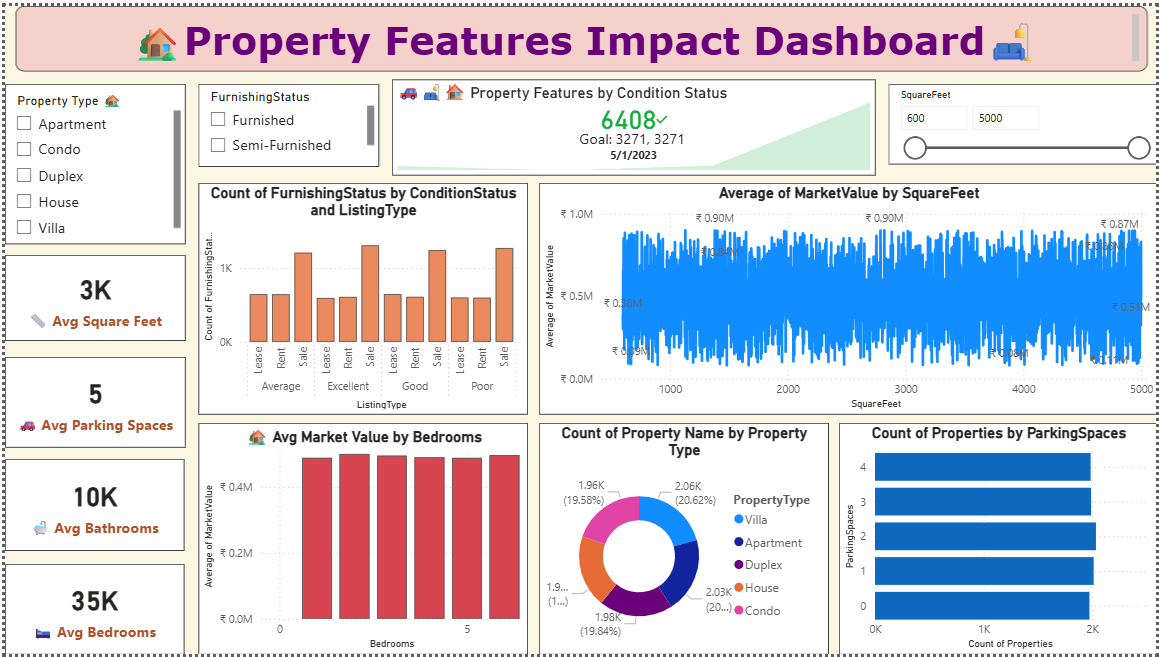

The page's visual inventory and layout, read from the dashboard file:
{"tool":"powerbi","page":{"name":"Property Features Impact","canvas":[1280,720],"ordinal":4},"visuals":[{"type":"textbox","box":[11.3,0,1258.1,72.9],"z":0},{"type":"clusteredBarChart","fields":{"Category":["Properties.ParkingSpaces"],"Y":["Count(Properties)"]},"box":[926.2,463.1,354.6,257.5],"z":1000},{"type":"lineChart","fields":{"Category":["Properties.SquareFeet"],"Y":["Avg(Properties.MarketValue)"]},"box":[592.6,195.9,688.2,257.5],"z":2000},{"type":"card","fields":{"Values":["Sum(Properties.Bedrooms)"]},"box":[0,620.2,199.2,100.4],"z":3000},{"type":"card","fields":{"Values":["CountNonNull(Properties.Bathrooms)"]},"box":[0,503.6,199.2,102],"z":4000},{"type":"card","fields":{"Values":["Avg(Properties.SquareFeet)"]},"box":[0,276.9,200.8,95.5],"z":5000},{"type":"card","fields":{"Values":["Count(Properties.ParkingSpaces)"]},"box":[0,390.2,200.8,100.4],"z":6000},{"type":"clusteredColumnChart","title":"🏡 Avg Market Value by Bedrooms","fields":{"Category":["Properties.Bedrooms"],"Y":["Avg(Properties.MarketValue)"]},"box":[215.4,463.1,365.9,257.5],"z":7000},{"type":"donutChart","title":"Count of Property Name by  Property Type ","fields":{"Category":["Properties.PropertyType","Properties.PropertyName"],"Y":["CountNonNull(Properties.PropertyName)"]},"box":[592.6,463.1,322.2,257.5],"z":8000},{"type":"columnChart","fields":{"Category":["Properties.ConditionStatus","Properties.ListingType"],"Y":["CountNonNull(Properties.FurnishingStatus)"]},"box":[215.4,195.9,365.9,257.5],"z":9000},{"type":"slicer","fields":{"Values":["Properties.PropertyType"]},"box":[0,87.4,200.8,178.1],"z":10000},{"type":"slicer","fields":{"Values":["Properties.SquareFeet"]},"box":[981.3,87.4,299.6,89.1],"z":11000},{"type":"slicer","fields":{"Values":["Properties.FurnishingStatus"]},"box":[215.4,87.4,200.8,92.3],"z":12000},{"type":"kpi","title":"🚗🛋️🏠 Property Features by Condition Status","fields":{"Goal":["CountNonNull(Properties.FurnishingStatus)","CountNonNull(Properties.PropertyType)"],"Indicator":["Sum(Properties.ParkingSpaces)"],"TrendLine":["Properties.SoldDate"]},"box":[430.7,81,537.6,106.9],"z":13000}]}

Visuals, with their boxes in screenshot pixels (x1, y1, x2, y2), scaled from the page's 1280x720 canvas onto the 1159x657 screenshot:
textbox: Rect(10, 0, 1149, 67)
clusteredBarChart - Properties.ParkingSpaces x Count(Properties): Rect(839, 423, 1158, 656)
lineChart - Properties.SquareFeet x Avg(Properties.MarketValue): Rect(537, 179, 1158, 414)
card - Sum(Properties.Bedrooms): Rect(0, 566, 180, 656)
card - CountNonNull(Properties.Bathrooms): Rect(0, 460, 180, 553)
card - Avg(Properties.SquareFeet): Rect(0, 253, 182, 340)
card - Count(Properties.ParkingSpaces): Rect(0, 356, 182, 448)
"🏡 Avg Market Value by Bedrooms" clusteredColumnChart: Rect(195, 423, 526, 656)
"Count of Property Name by  Property Type " donutChart: Rect(537, 423, 828, 656)
columnChart - Properties.ConditionStatus x Properties.ListingType: Rect(195, 179, 526, 414)
slicer - Properties.PropertyType: Rect(0, 80, 182, 242)
slicer - Properties.SquareFeet: Rect(889, 80, 1158, 161)
slicer - Properties.FurnishingStatus: Rect(195, 80, 377, 164)
"🚗🛋️🏠 Property Features by Condition Status" kpi: Rect(390, 74, 877, 171)
